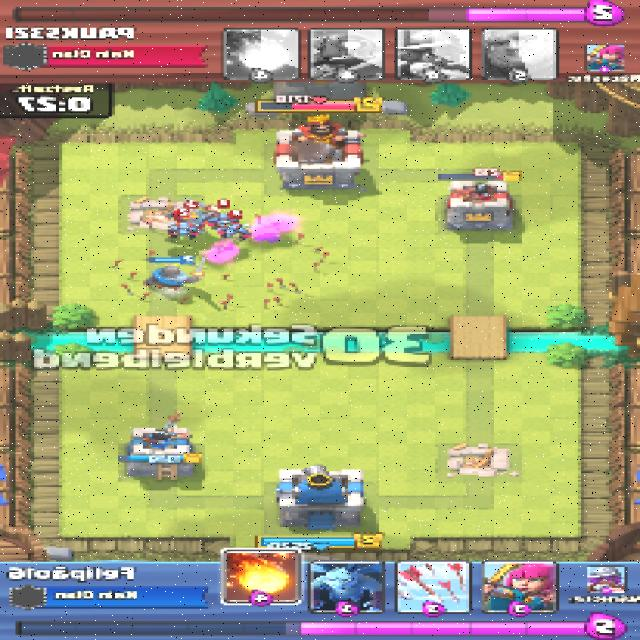Enemy-Arrow: (114, 223, 329, 310)
Enemy-Minion: (164, 223, 204, 240), (220, 223, 256, 240), (209, 211, 234, 227)
Player-Knight: (139, 266, 205, 290), (170, 204, 212, 224)
